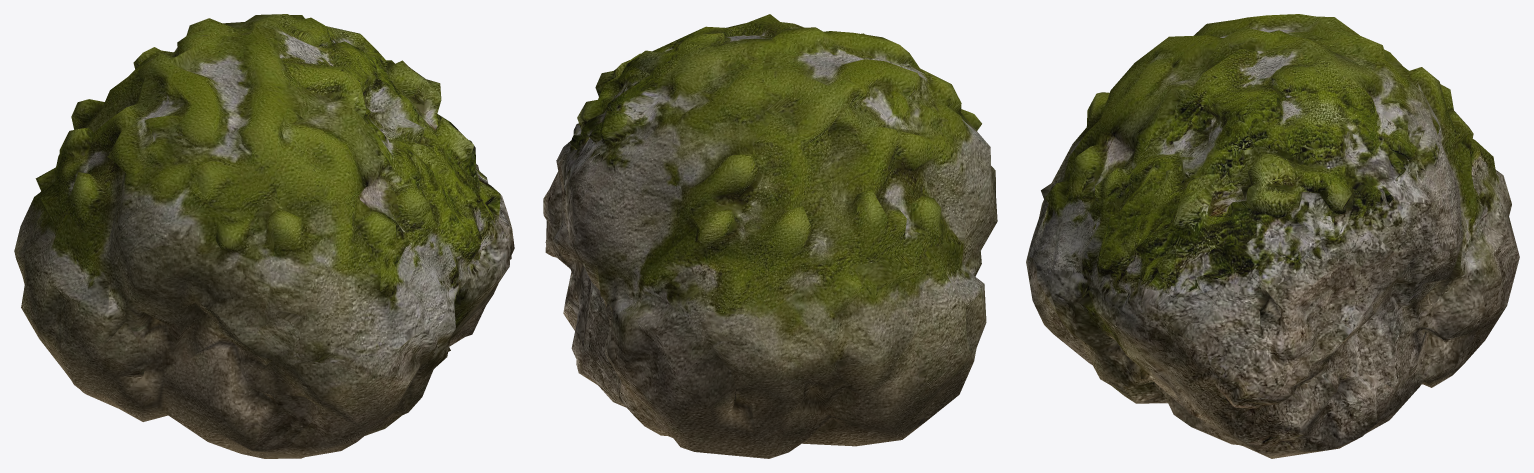
File: roca.glb
3 renders of one model, left to right at view 1: azimuth 30°, elevation 25°; view 2: azimuth 150°, elevation 25°; view 3: azimuth 270°, elevation 25°, orthographic. The views are drawn at different scales.
Parts seen in each view (by area): view 1: tripo_node_b1f8ecb3-8449-4de5-9964-d8b92c099a2d; view 2: tripo_node_b1f8ecb3-8449-4de5-9964-d8b92c099a2d; view 3: tripo_node_b1f8ecb3-8449-4de5-9964-d8b92c099a2d.
Boxes of the visible parts, box(x1,y1,x2,y2) form: tripo_node_b1f8ecb3-8449-4de5-9964-d8b92c099a2d: box(14, 14, 514, 458); tripo_node_b1f8ecb3-8449-4de5-9964-d8b92c099a2d: box(543, 14, 997, 458); tripo_node_b1f8ecb3-8449-4de5-9964-d8b92c099a2d: box(1026, 14, 1519, 458).
Size of the model in its own units: 1 by 0.8174 by 0.9918.
Materials: 1 (1 with a texture image).
